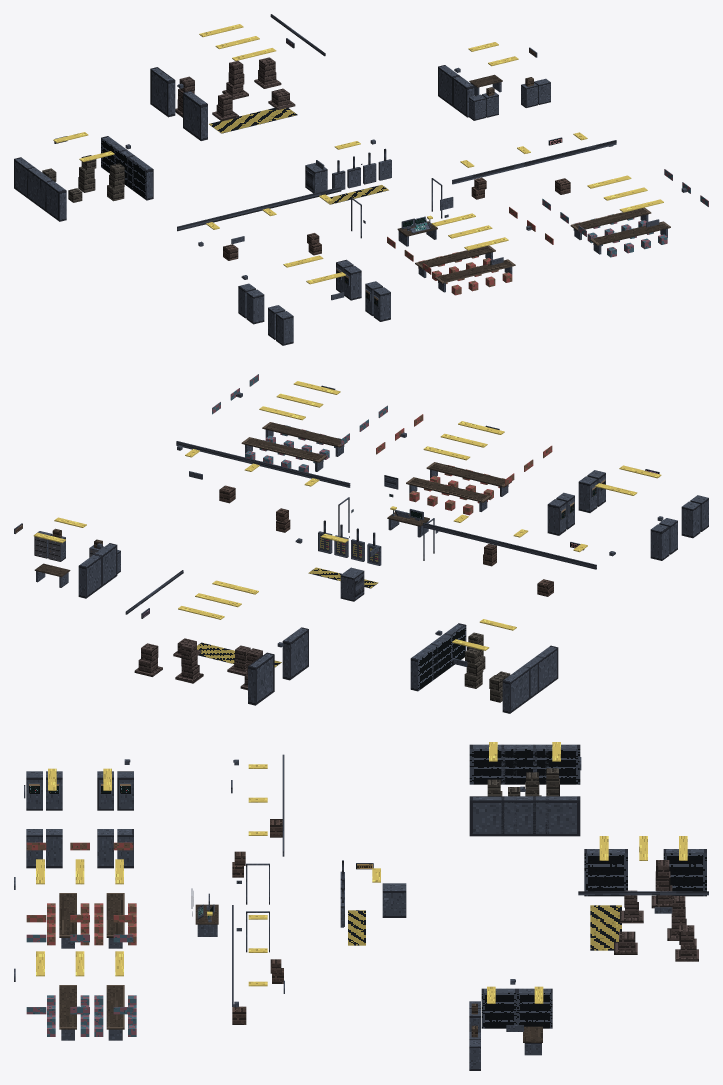
Rendered from office_map_props.glb.
The picture shows the model from 3 angles, top to bottom: view 1: azimuth 30°, elevation 25°; view 2: azimuth 150°, elevation 25°; view 3: azimuth 270°, elevation 25°; orthographic projection. The views are drawn at different scales.
Visible parts, largest first — view 1: Loading_BayShelf0, Loading_BayShelf1, Loading_HazardZone, EastHall_Conduit, WestHall_Conduit, Storage_ShelfR2, Storage_ShelfL2, Storage_ShelfL1, Archive_ArchShelf1, DiningA_Table1, DiningB_Table1, DiningB_Table0 (+14 smaller); view 2: Loading_BayShelf0, Loading_BayShelf1, Storage_ShelfL0, WestHall_Conduit, EastHall_Conduit, Storage_ShelfR0, Archive_ArchShelf0, Storage_ShelfL2, Storage_ShelfR1, DiningB_Table0, DiningA_Table0, Electrical_Transformer (+13 smaller); view 3: Storage_ShelfR0, Loading_BayShelf1, Storage_ShelfR1, Storage_ShelfR2, Loading_BayShelf0, Storage_ShelfL0, Storage_ShelfL1, Storage_ShelfL2, Loading_HazardZone, Archive_ArchShelf1, Archive_ArchShelf0, DiningA_Banners (+26 smaller).
Part boxes in pixels (left/top/right/bottom): Loading_BayShelf0: left=150, top=67, right=175, bottom=117; Loading_BayShelf1: left=183, top=91, right=207, bottom=140; Loading_HazardZone: left=209, top=108, right=297, bottom=133; EastHall_Conduit: left=452, top=140, right=616, bottom=184; WestHall_Conduit: left=177, top=186, right=341, bottom=231; Storage_ShelfR2: left=127, top=155, right=153, bottom=200; Storage_ShelfL2: left=40, top=178, right=66, bottom=221; Storage_ShelfL1: left=27, top=167, right=52, bottom=211; Archive_ArchShelf1: left=452, top=75, right=474, bottom=117; DiningA_Table1: left=434, top=259, right=515, bottom=283; DiningB_Table1: left=590, top=221, right=670, bottom=245; DiningB_Table0: left=570, top=207, right=651, bottom=231; Loading_BayShelf0: left=248, top=652, right=274, bottom=705; Loading_BayShelf1: left=282, top=627, right=308, bottom=680; Storage_ShelfL0: left=502, top=666, right=530, bottom=713; WestHall_Conduit: left=423, top=522, right=596, bottom=569; EastHall_Conduit: left=176, top=441, right=350, bottom=487; Storage_ShelfR0: left=410, top=643, right=438, bottom=691; Archive_ArchShelf0: left=78, top=554, right=101, bottom=598; Storage_ShelfL2: left=530, top=645, right=558, bottom=693; Storage_ShelfR1: left=425, top=633, right=452, bottom=680; DiningB_Table0: left=241, top=437, right=326, bottom=462; DiningA_Table0: left=406, top=477, right=491, bottom=502; Electrical_Transformer: left=340, top=567, right=364, bottom=601; Storage_ShelfR0: left=533, top=796, right=580, bottom=836; Loading_BayShelf1: left=584, top=849, right=627, bottom=896; Storage_ShelfR1: left=501, top=796, right=548, bottom=836; Storage_ShelfR2: left=469, top=796, right=516, bottom=836; Loading_BayShelf0: left=663, top=849, right=706, bottom=896; Storage_ShelfL0: left=533, top=744, right=580, bottom=784; Storage_ShelfL1: left=501, top=744, right=548, bottom=784; Storage_ShelfL2: left=469, top=744, right=516, bottom=784; Loading_HazardZone: left=590, top=905, right=621, bottom=950; Archive_ArchShelf1: left=481, top=988, right=516, bottom=1028; Archive_ArchShelf0: left=517, top=988, right=552, bottom=1028; DiningA_Banners: left=26, top=842, right=133, bottom=922.
Size of what is drawn, in the model's own units: 34.87 by 4.48 by 35.14.
Materials: 1 (1 with a texture image).
